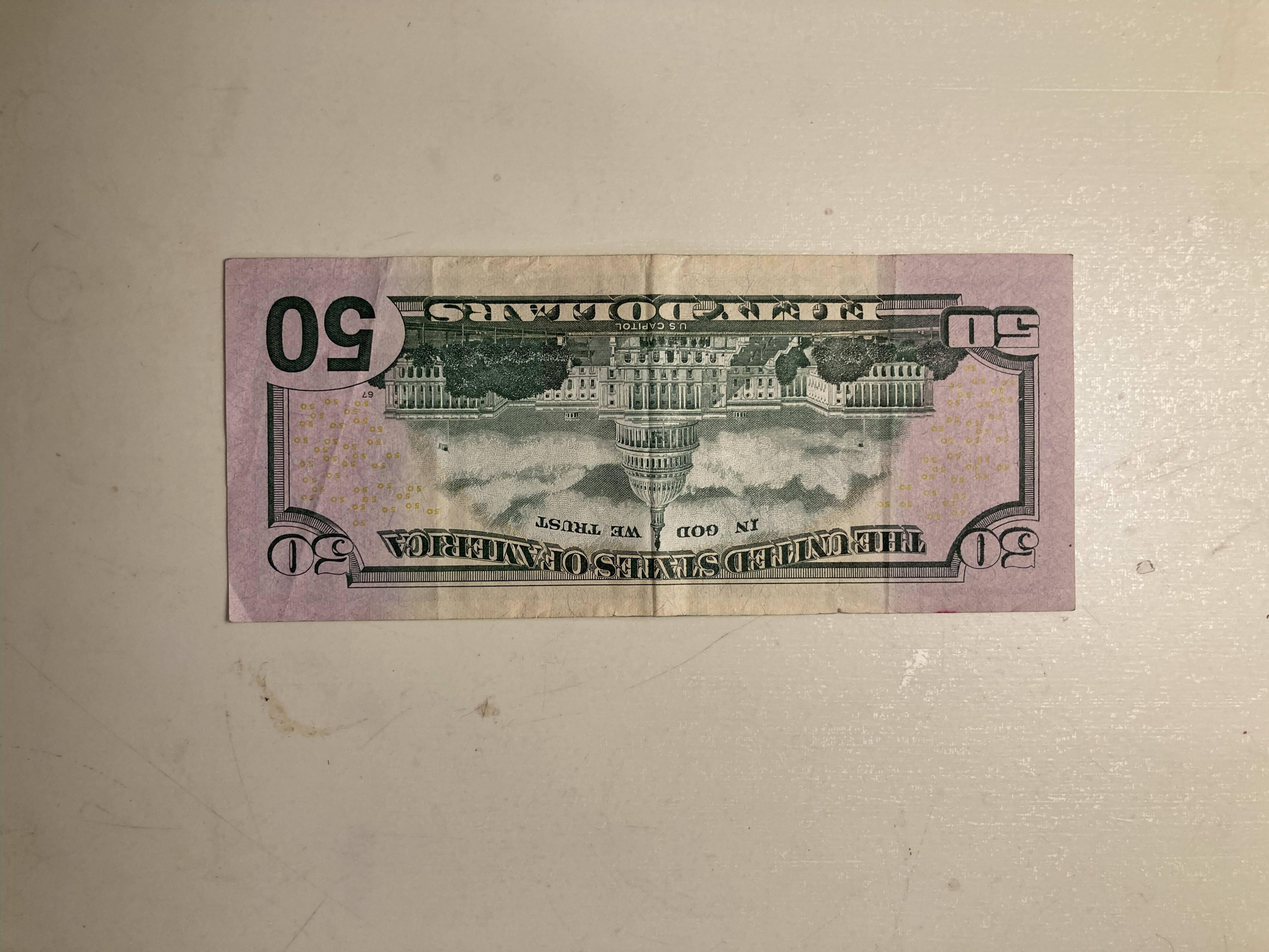fifty-back: (221, 251, 1078, 625)
